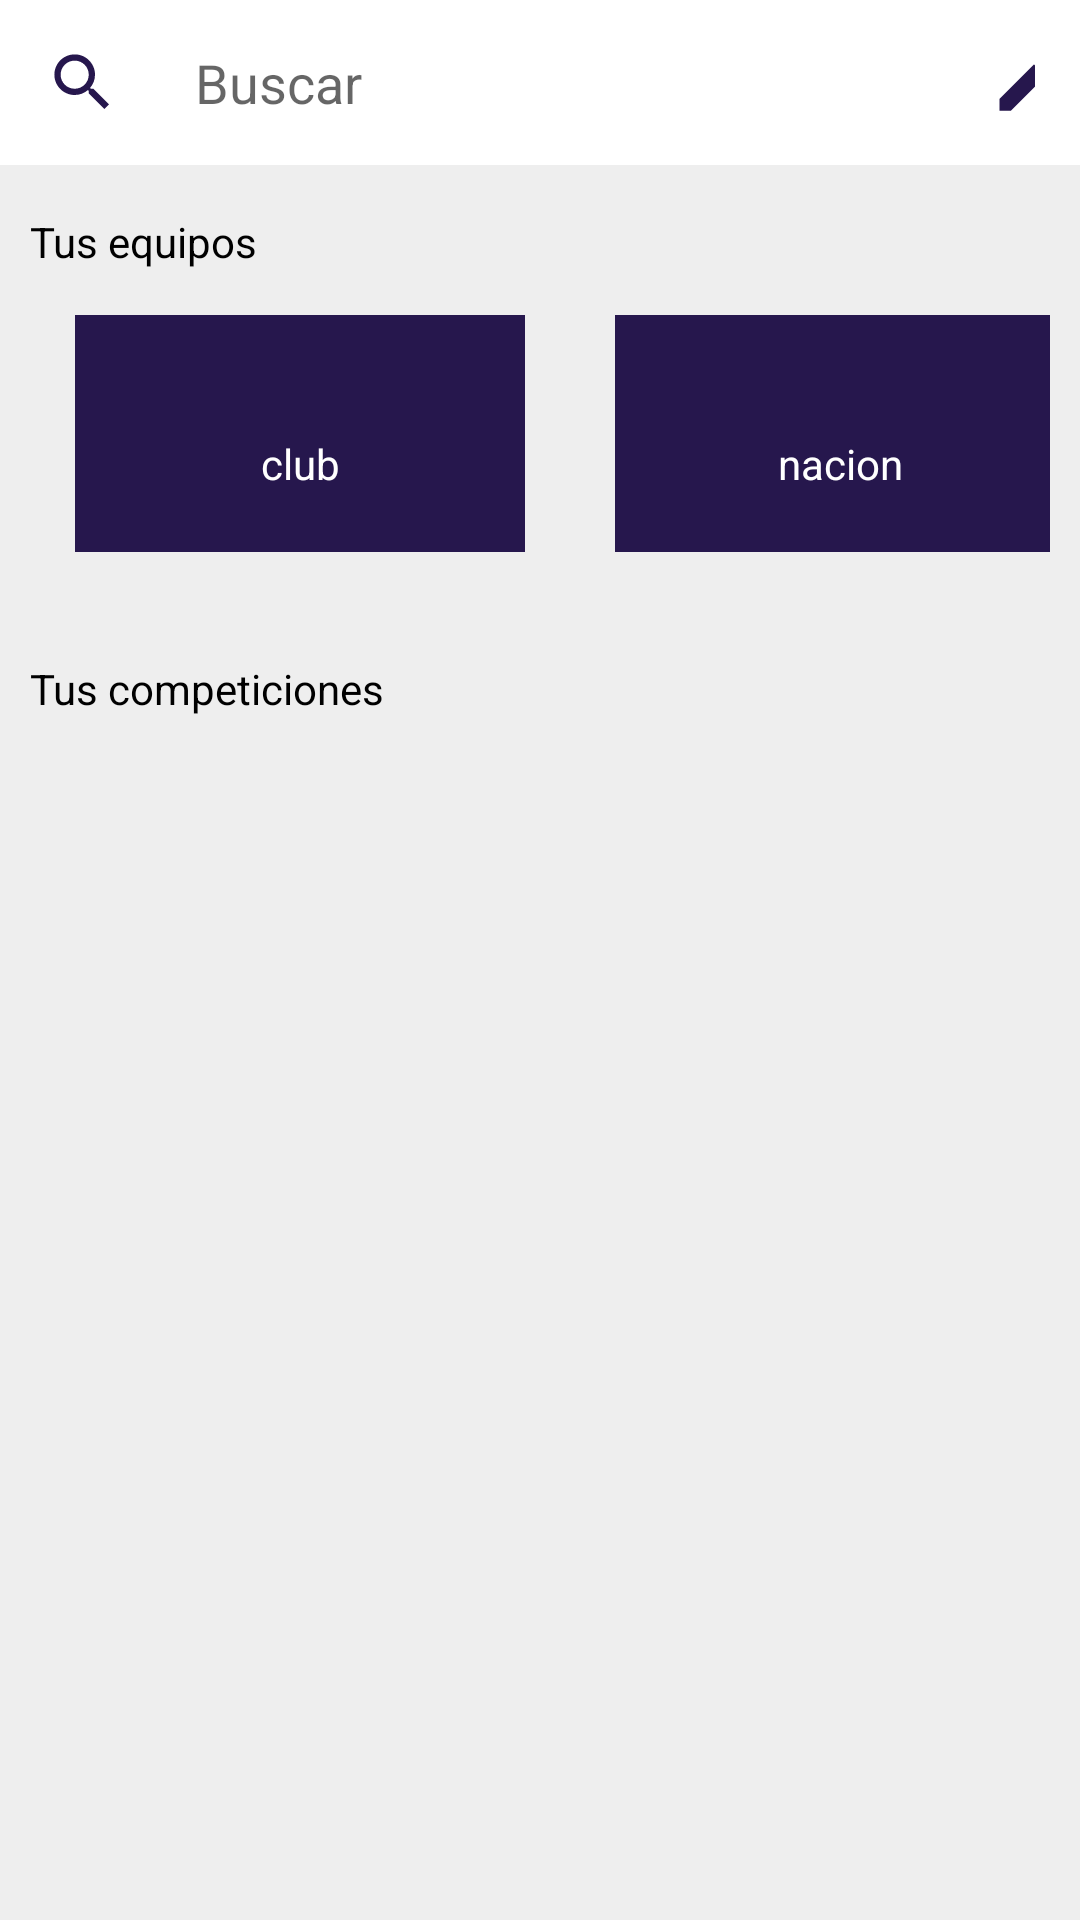

Icons on this 1080 x 1920 Android screen, each with the point to tap as (x=x, y=y):
search: (x=81, y=81)
